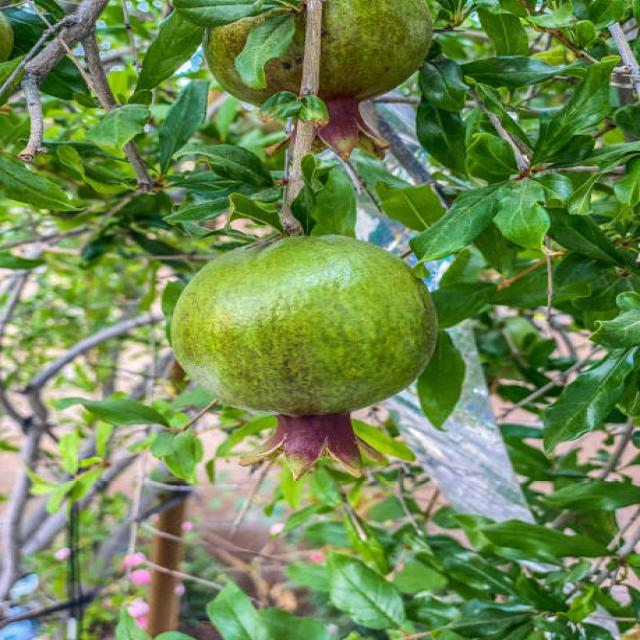Unripe: (173, 230, 437, 477)
